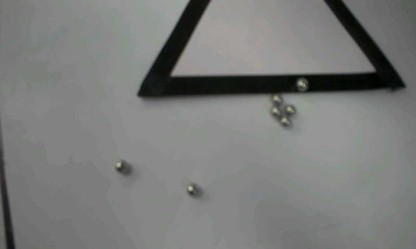ironball: (185, 182, 201, 197), (294, 76, 308, 92), (270, 93, 282, 106), (269, 106, 281, 118), (114, 159, 125, 172), (279, 115, 291, 126), (283, 104, 295, 115)
